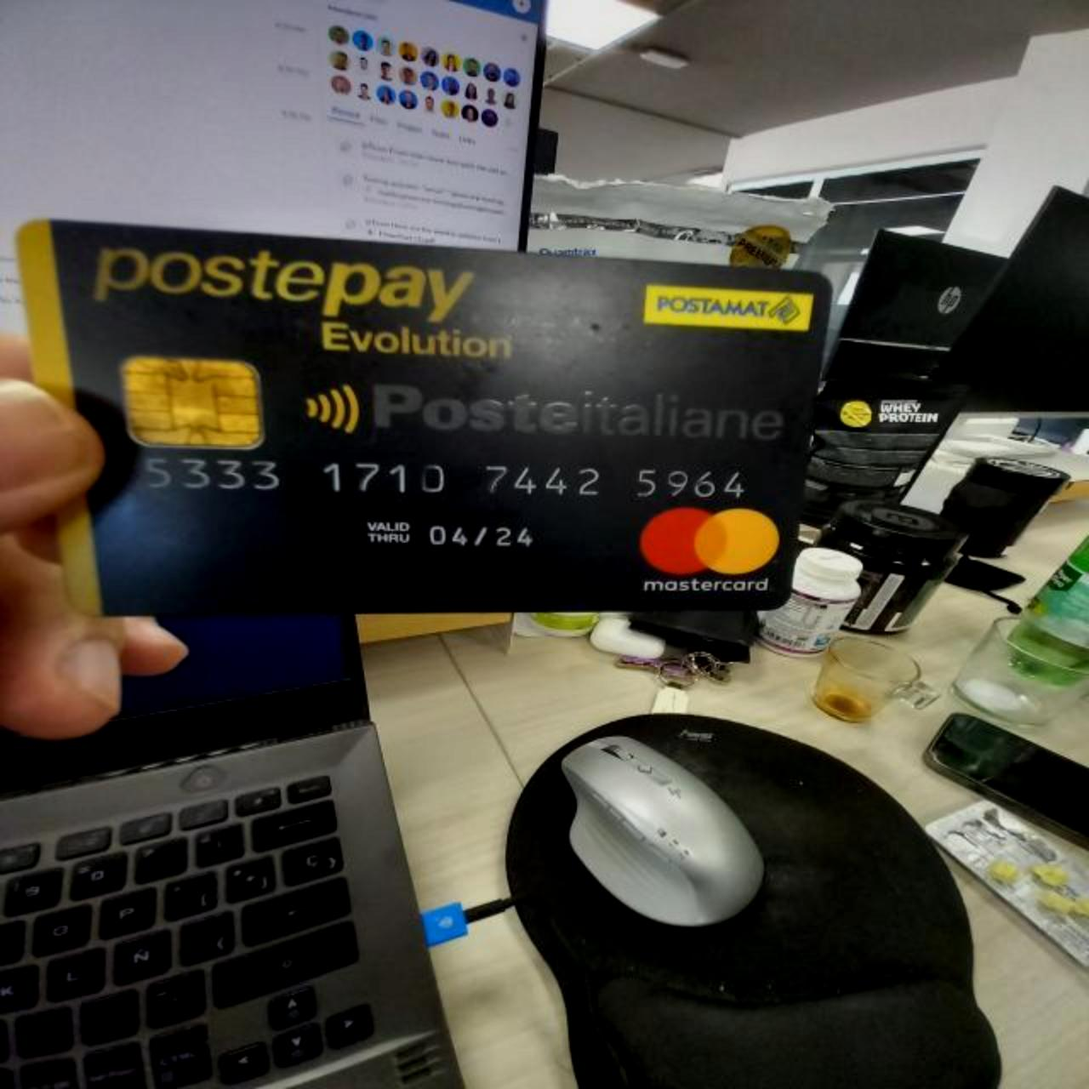credit_card: (20, 221, 824, 616)
